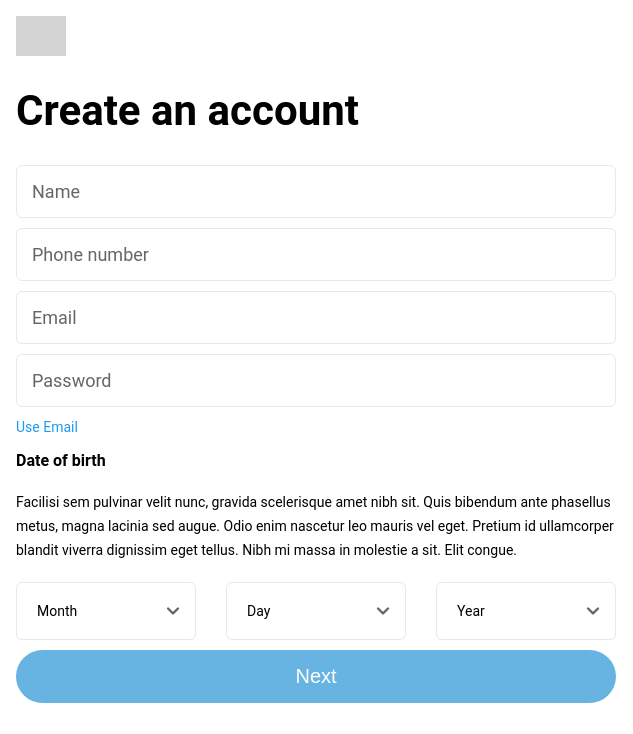
Test case: signUp test › validate email
This screenshot has width=633, height=734.
Check: the button "Next" is disabled, box [16,650,616,703]
Step 1. Type "testgmail.com" into the field named "email" → (316, 318), box [16,291,616,344]
Then press Enter
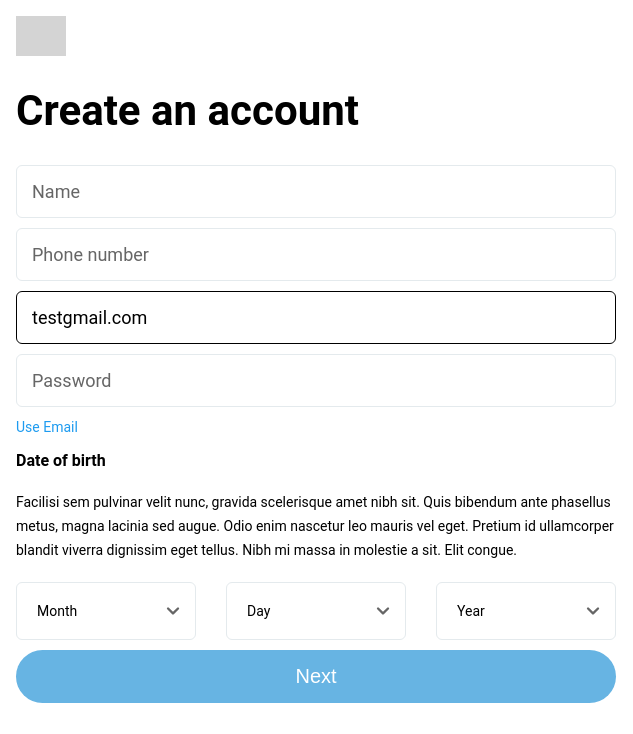
Step 2. Focus the password field named "password" → (316, 381), box [16,354,616,407]
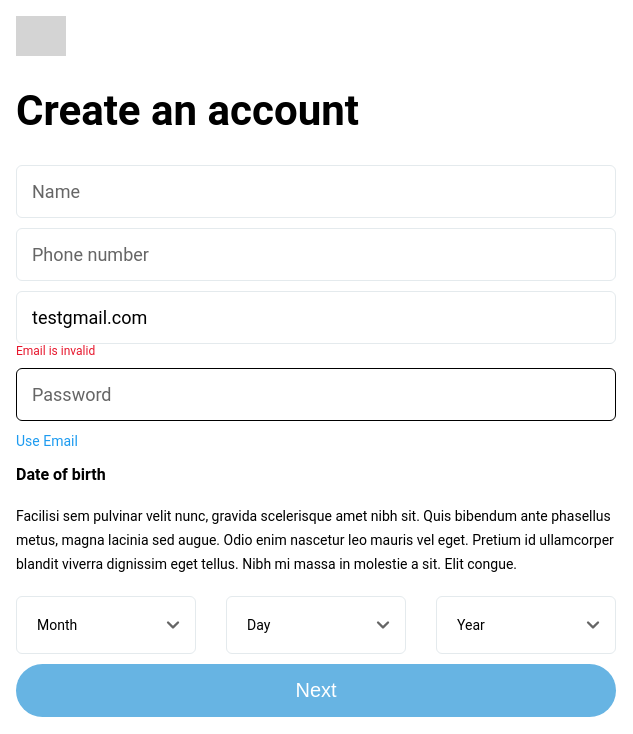
Check: the button "Next" is disabled, box [16,664,616,717]
Check: the text "Email is invalid" is shown, box [16,344,95,358]
